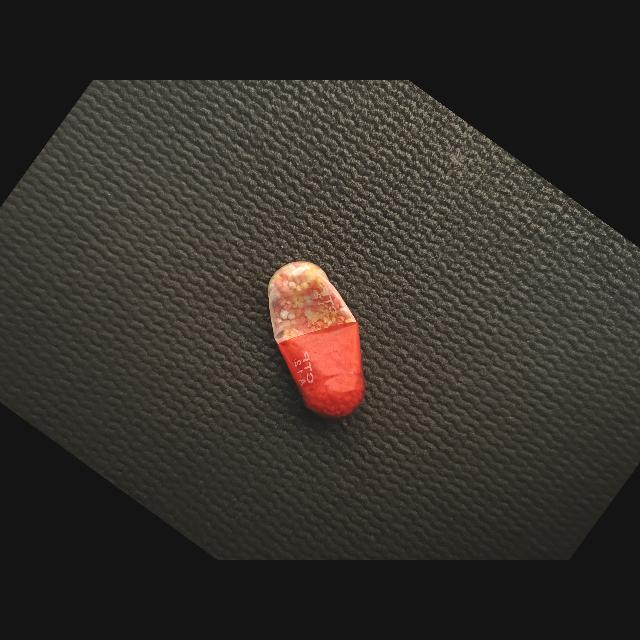Defective Capsule: (268, 261, 365, 418)
